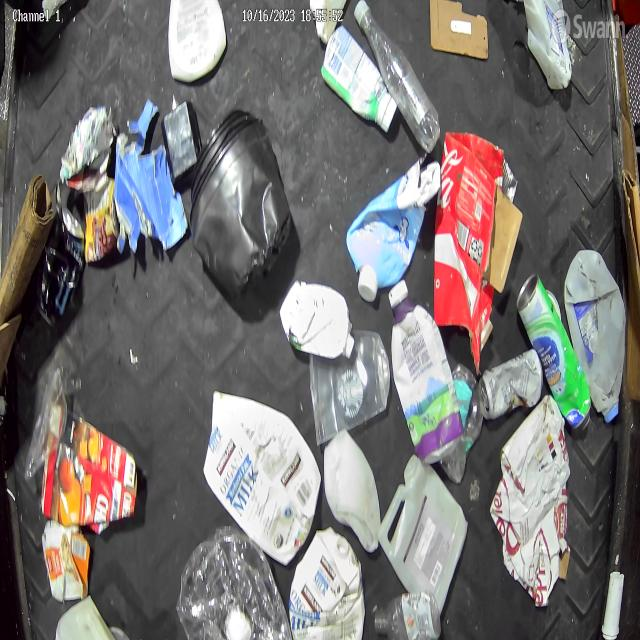can: (516, 272, 593, 433), (34, 205, 85, 327), (478, 346, 544, 422), (82, 176, 120, 264)
milk_jug: (202, 389, 322, 566), (379, 454, 468, 616), (563, 247, 627, 422), (287, 526, 366, 640), (324, 432, 382, 552), (522, 0, 572, 90)
non_white_jug: (346, 156, 442, 301), (389, 279, 464, 463)
plastic_bottle: (354, 0, 442, 153), (374, 589, 441, 640)
